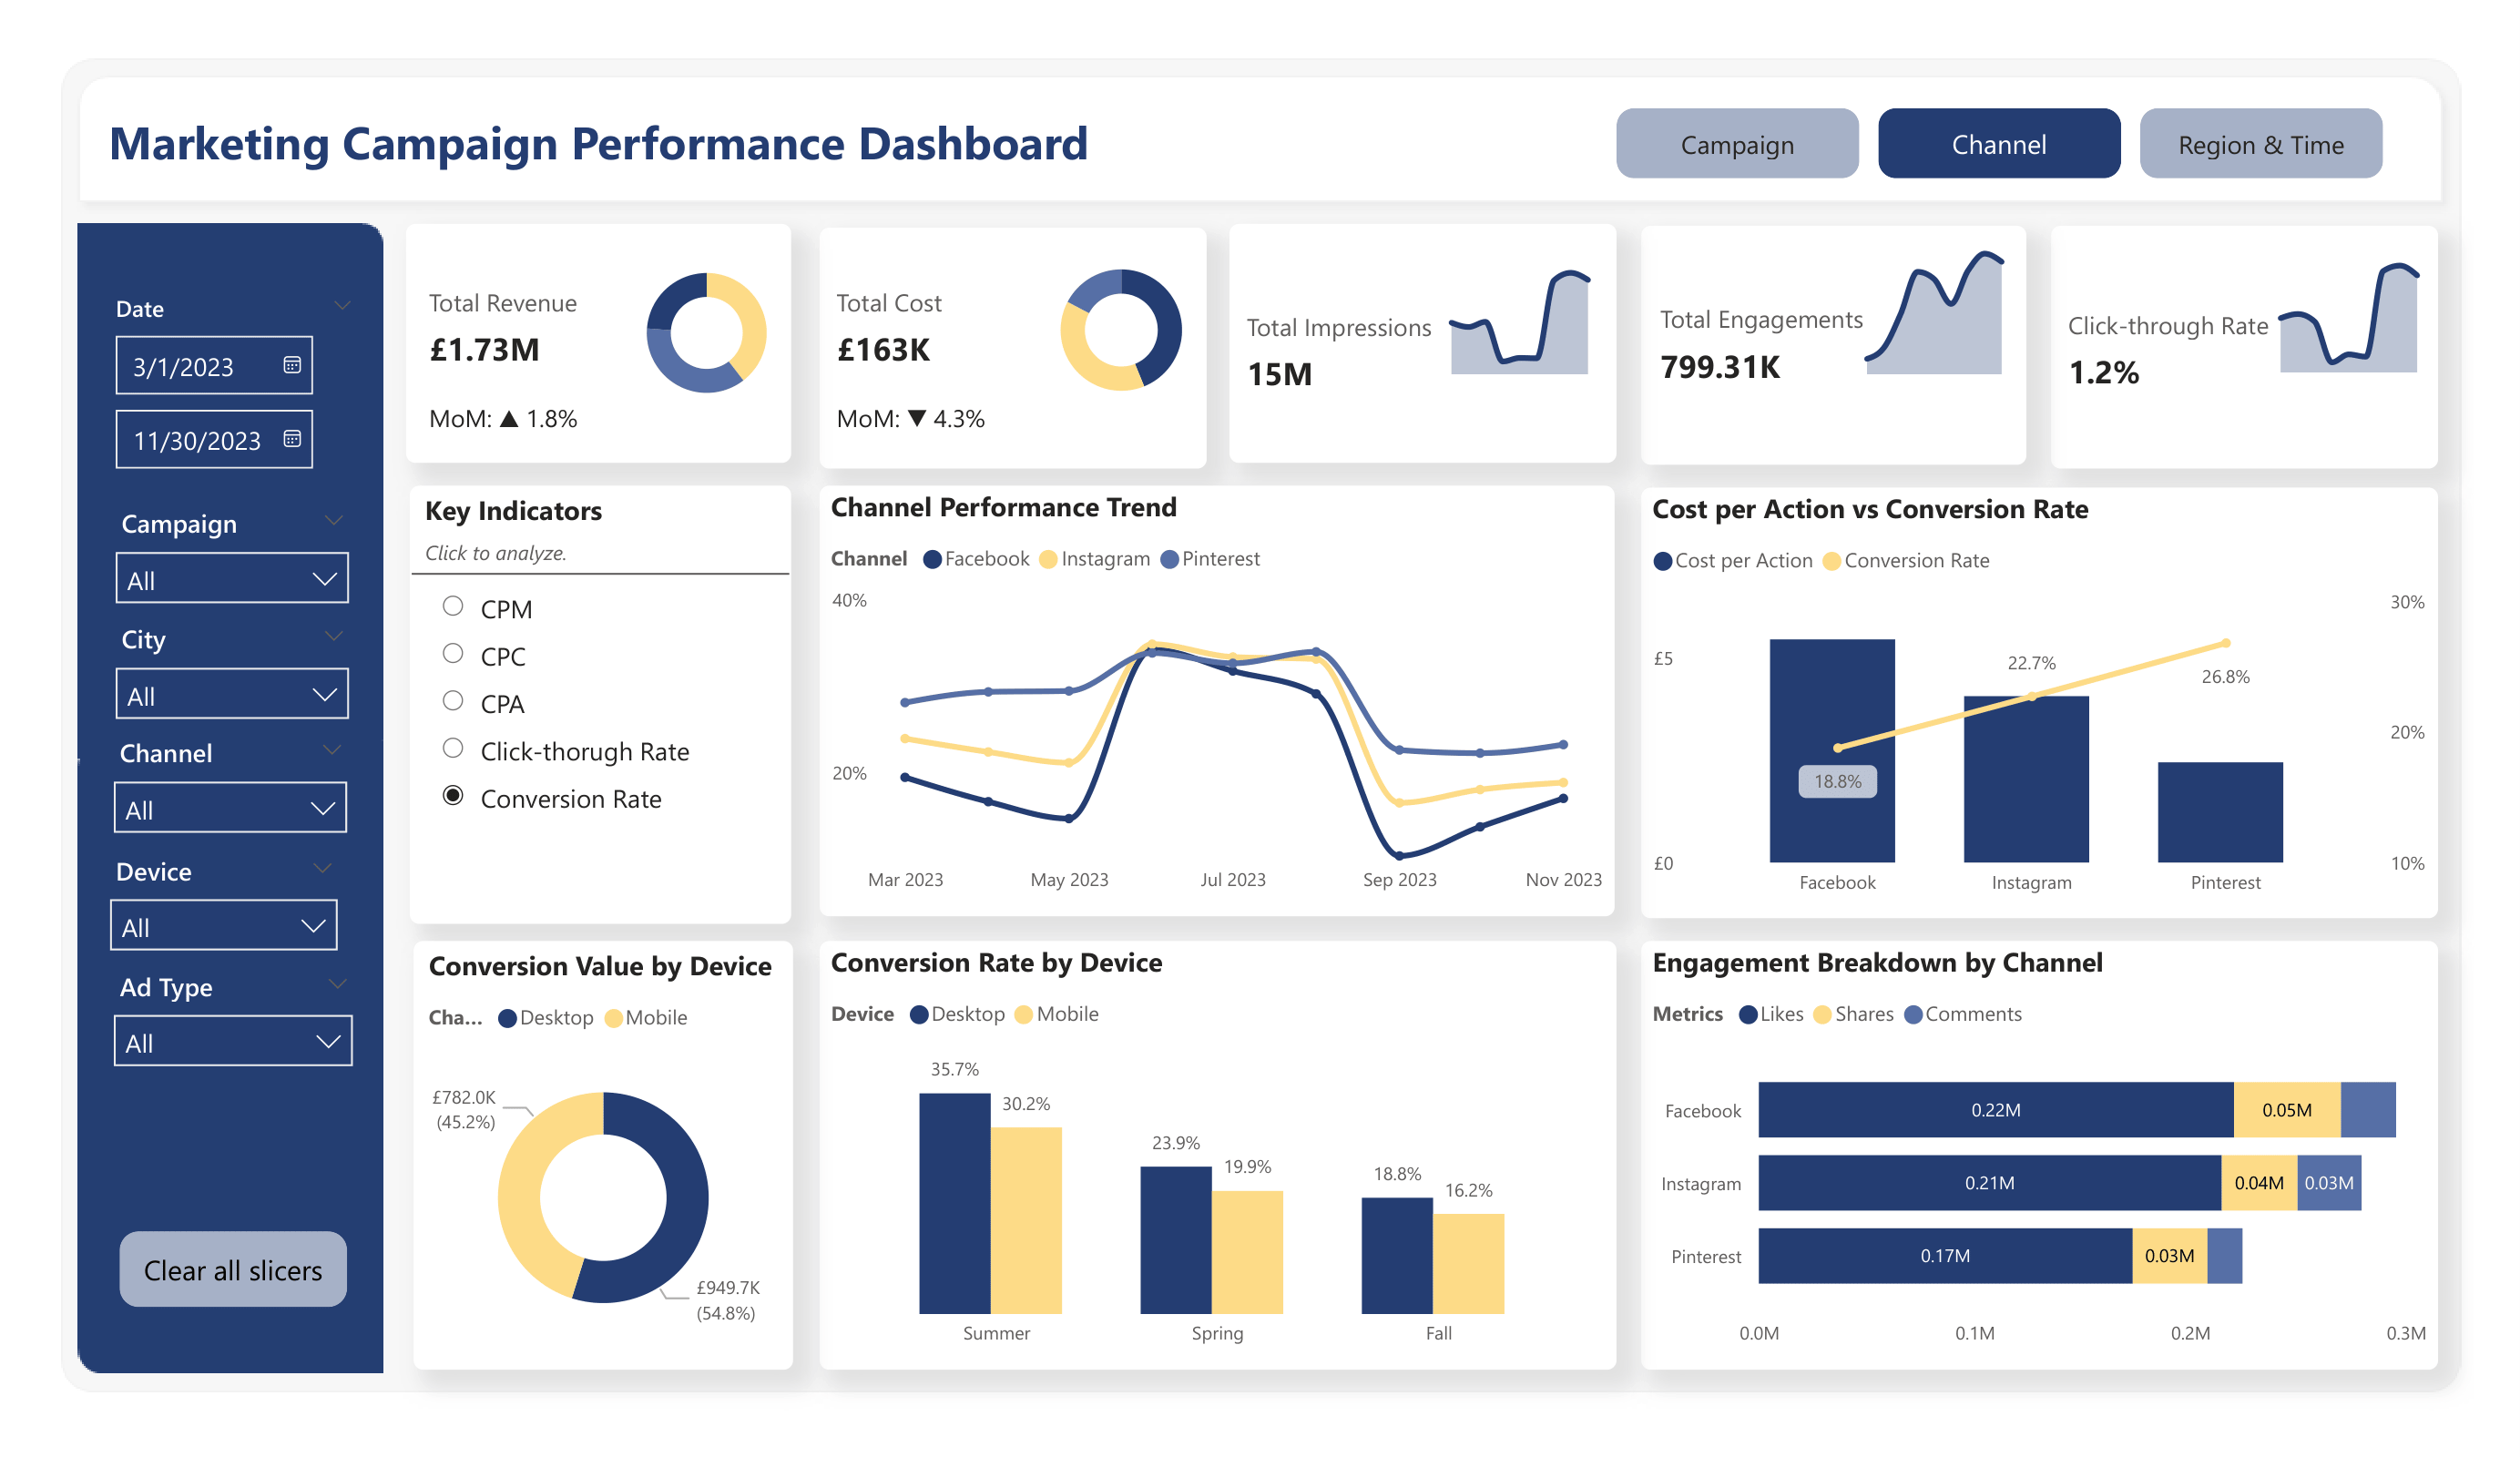

Layout of this report page (visuals, bound fields, positions):
{"tool":"powerbi","page":{"name":"Channel","canvas":[1280,720],"ordinal":1},"visuals":[{"type":"textbox","title":"Title","box":[27.7,29.3,772.6,43.9],"z":0},{"type":"slicer","title":"Filter Shipping Partner","fields":{"Values":["dim_ad.Ad_Format"]},"box":[25.6,482.5,146.4,83],"z":0,"group":"g2"},{"type":"shape","box":[408.3,96,203.3,126.9],"z":1000},{"type":"slicer","title":"Filter Product Name","fields":{"Values":["dim_device.Device_Name"]},"box":[24,421.1,139.9,84.6],"z":1000,"group":"g2"},{"type":"pageNavigator","box":[827.9,32.5,405,37.4],"z":2000,"group":"g1"},{"type":"shape","box":[1057.3,94.7,204,128],"z":2000},{"type":"slicer","title":"Filter Product Category","fields":{"Values":["dim_channel.Channel_Name"]},"box":[25.6,359.7,143.1,84.6],"z":2000,"group":"g2"},{"type":"shape","box":[841.3,94.7,202.7,126.7],"z":3000},{"type":"slicer","title":"Filter Region Name","fields":{"Values":["dim_campaign.Campaign"]},"box":[27.3,238.5,143.1,84.6],"z":3000,"group":"g2"},{"type":"shape","box":[624.1,94,203.6,126.5],"z":4000},{"type":"slicer","title":"Filter Region State","fields":{"Values":["dim_region.Region_Name"]},"box":[27.3,299.9,143.1,83],"z":4000,"group":"g2"},{"type":"actionButton","box":[39,624.6,120.4,40.7],"z":5000},{"type":"shape","box":[189.9,94.2,202.9,126.1],"z":6000},{"type":"areaChart","fields":{"Category":["dim_calendar.StartOfMonth"],"Y":["Avg(fact_mkt.CTR, %)"]},"box":[1163,92.7,102.5,84.6],"z":8000},{"type":"areaChart","fields":{"Category":["dim_calendar.StartOfMonth"],"Y":["Sum(fact_mkt.Engagements)"]},"box":[944.8,94.3,101.3,84],"z":9000},{"type":"donutChart","fields":{"Category":["dim_channel.Channel_Name"],"Y":["Sum(fact_mkt.Total conversion value, GBP)"]},"box":[304.2,100,88.9,102.8],"z":10000},{"type":"areaChart","fields":{"Category":["dim_calendar.StartOfMonth"],"Y":["Sum(fact_mkt.Impressions)"]},"box":[726.4,93.1,101.4,84.7],"z":11000},{"type":"cardVisual","fields":{"Data":["Sum(fact_mkt.Engagements)"]},"box":[841.7,94.4,136.1,125],"z":12000},{"type":"cardVisual","fields":{"Data":["Avg(fact_mkt.CTR, %)"]},"box":[1057.3,96,156.1,126.9],"z":13000},{"type":"cardVisual","fields":{"Data":["Sum(fact_mkt.Impressions)"]},"box":[623.6,97.2,156.9,126.4],"z":14000},{"type":"lineClusteredColumnComboChart","title":"Cost per Action vs Conversion Rate","fields":{"Category":["dim_channel.Channel_Name"],"Y":["*Metrics.M_CostperConversion"],"Y2":["*Metrics.M_ConversionRate"]},"box":[840.9,232.6,419.6,227.7],"z":15000},{"type":"lineChart","title":"Channel Performance Trend","fields":{"Y":["*Metrics.M_CostperAction"],"Category":["dim_calendar.StartOfMonth"],"Series":["dim_channel.Channel_Name"]},"box":[408.5,232.2,418.6,227.1],"z":16000},{"type":"slicer","title":"Key Indicators","fields":{"Values":["Key Indicators 2.Key Indicators 2"]},"box":[191.5,232.2,201.7,230.5],"z":17000},{"type":"barChart","title":"Engagement Breakdown by Channel","fields":{"Category":["dim_channel.Channel_Name"],"Y":["Sum(fact_mkt.Likes (Reactions))","Sum(fact_mkt.Shares)","Sum(fact_mkt.Comments)"]},"box":[840.9,471.7,419.6,226.1],"z":18000},{"type":"group","id":"g1","title":"Navigation","box":[827.9,32.5,405,37.4],"z":19000},{"type":"slicer","title":"Date","fields":{"Values":["dim_calendar.Date"]},"box":[24.1,125.1,149.6,143.1],"z":20000},{"type":"group","id":"g2","title":"Group 1","box":[24,238.5,148,326.9],"z":21000},{"type":"cardVisual","fields":{"Data":["Sum(fact_mkt.Total conversion value, GBP)"]},"box":[193,114.2,101.5,108.8],"z":22000},{"type":"cardVisual","fields":{"Data":["Sum(fact_mkt.Spend, GBP)"]},"box":[408.3,113.9,155.6,108.3],"z":23000},{"type":"donutChart","fields":{"Category":["dim_channel.Channel_Name"],"Y":["Sum(fact_mkt.Spend, GBP)"]},"box":[522,96.6,89.8,106.8],"z":24000},{"type":"clusteredColumnChart","title":"Conversion Rate by Device","fields":{"Y":["*Metrics.M_ConversionRate"],"Series":["dim_device.Device_Name"],"Category":["dim_campaign.Campaign"]},"box":[408.3,471.7,419.6,226.1],"z":25000},{"type":"donutChart","title":"Conversion Value by Device","fields":{"Y":["Sum(fact_mkt.Total conversion value, GBP)"],"Category":["dim_device.Device_Name"]},"box":[193.6,471.7,200.1,226.1],"z":26000}]}

Visuals, with their boxes on the page's 1280x720 design canvas (x1, y1, x2, y2). These are canvas units, not pixel positions in the 2520x1457 screenshot, which may show the page scaled, cropped or inside an application window:
"Title" textbox: select_region(28, 29, 800, 73)
"Filter Shipping Partner" slicer: select_region(26, 482, 172, 566)
shape: select_region(408, 96, 612, 223)
"Filter Product Name" slicer: select_region(24, 421, 164, 506)
pageNavigator: select_region(828, 32, 1233, 70)
shape: select_region(1057, 95, 1261, 223)
"Filter Product Category" slicer: select_region(26, 360, 169, 444)
shape: select_region(841, 95, 1044, 221)
"Filter Region Name" slicer: select_region(27, 238, 170, 323)
shape: select_region(624, 94, 828, 220)
"Filter Region State" slicer: select_region(27, 300, 170, 383)
actionButton: select_region(39, 625, 159, 665)
shape: select_region(190, 94, 393, 220)
areaChart - dim_calendar.StartOfMonth x Avg(fact_mkt.CTR, %): select_region(1163, 93, 1266, 177)
areaChart - dim_calendar.StartOfMonth x Sum(fact_mkt.Engagements): select_region(945, 94, 1046, 178)
donutChart - dim_channel.Channel_Name x Sum(fact_mkt.Total conversion value, GBP): select_region(304, 100, 393, 203)
areaChart - dim_calendar.StartOfMonth x Sum(fact_mkt.Impressions): select_region(726, 93, 828, 178)
cardVisual - Sum(fact_mkt.Engagements): select_region(842, 94, 978, 219)
cardVisual - Avg(fact_mkt.CTR, %): select_region(1057, 96, 1213, 223)
cardVisual - Sum(fact_mkt.Impressions): select_region(624, 97, 780, 224)
"Cost per Action vs Conversion Rate" lineClusteredColumnComboChart: select_region(841, 233, 1260, 460)
"Channel Performance Trend" lineChart: select_region(408, 232, 827, 459)
"Key Indicators" slicer: select_region(192, 232, 393, 463)
"Engagement Breakdown by Channel" barChart: select_region(841, 472, 1260, 698)
"Navigation" group: select_region(828, 32, 1233, 70)
"Date" slicer: select_region(24, 125, 174, 268)
"Group 1" group: select_region(24, 238, 172, 565)
cardVisual - Sum(fact_mkt.Total conversion value, GBP): select_region(193, 114, 294, 223)
cardVisual - Sum(fact_mkt.Spend, GBP): select_region(408, 114, 564, 222)
donutChart - dim_channel.Channel_Name x Sum(fact_mkt.Spend, GBP): select_region(522, 97, 612, 203)
"Conversion Rate by Device" clusteredColumnChart: select_region(408, 472, 828, 698)
"Conversion Value by Device" donutChart: select_region(194, 472, 394, 698)
